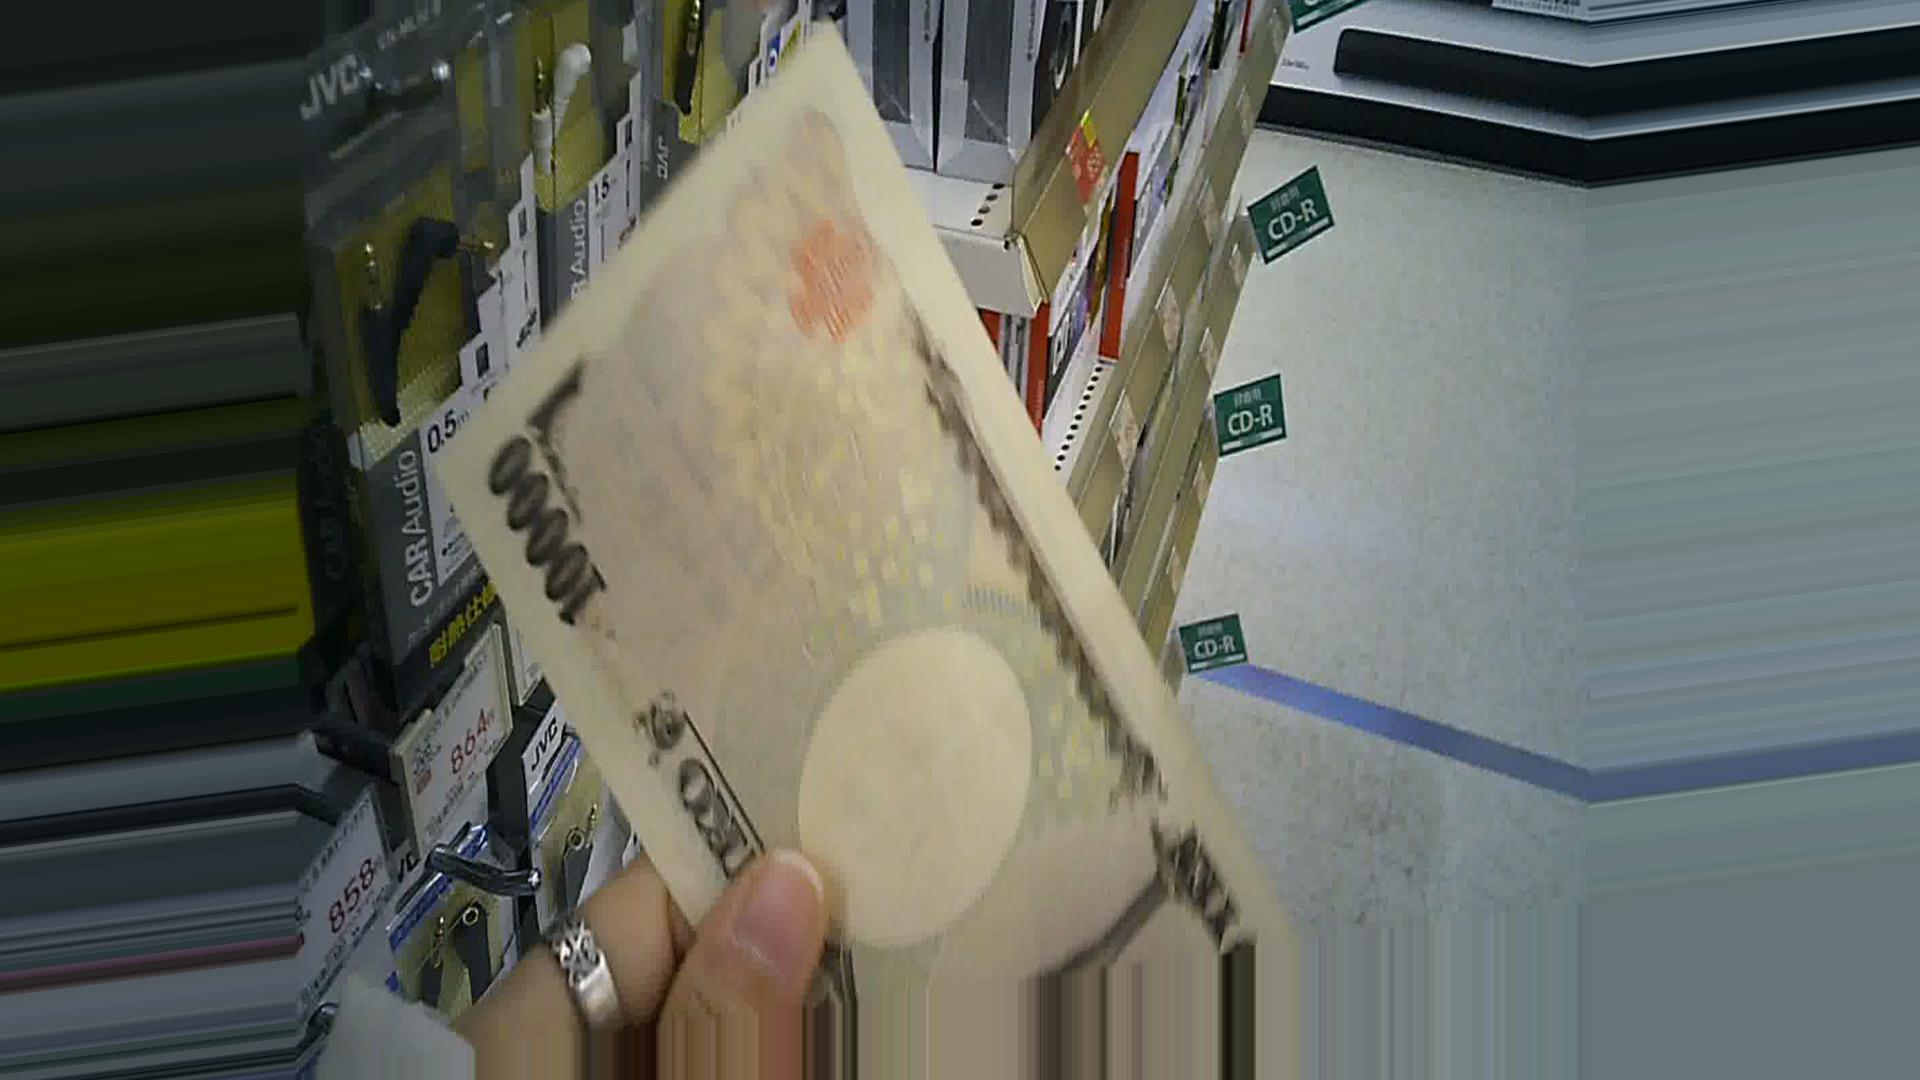10,000 Yen: (419, 40, 1324, 982)
